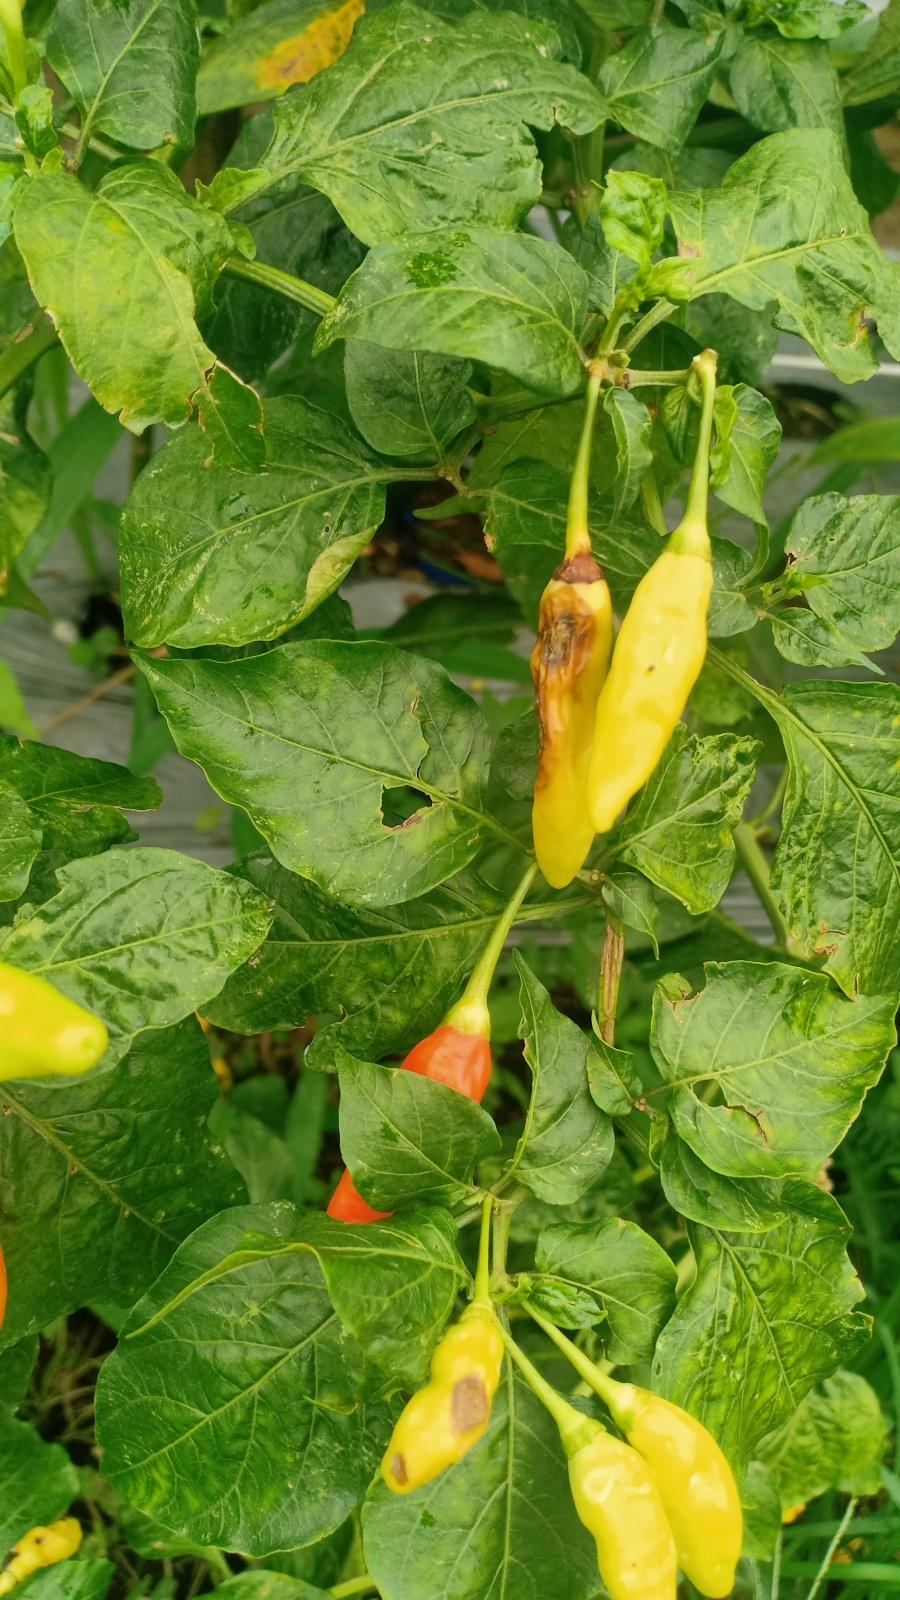antraknosa: (527, 571, 612, 892), (378, 1318, 504, 1496)
cabai_normal: (589, 546, 712, 831), (331, 1025, 487, 1226), (633, 1384, 749, 1600), (566, 1437, 673, 1598), (2, 971, 104, 1082)
